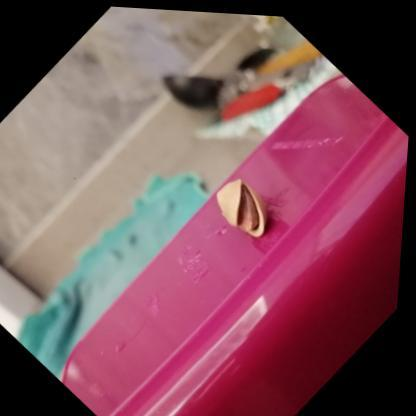pistachio: (203, 177, 279, 239)
